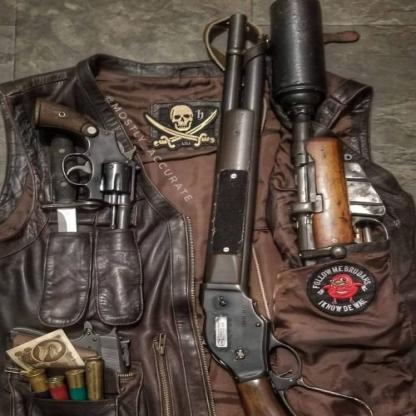Gun: (200, 12, 373, 416), (266, 0, 391, 270)
Knife: (39, 134, 88, 318)
Pistol: (31, 93, 142, 318)
